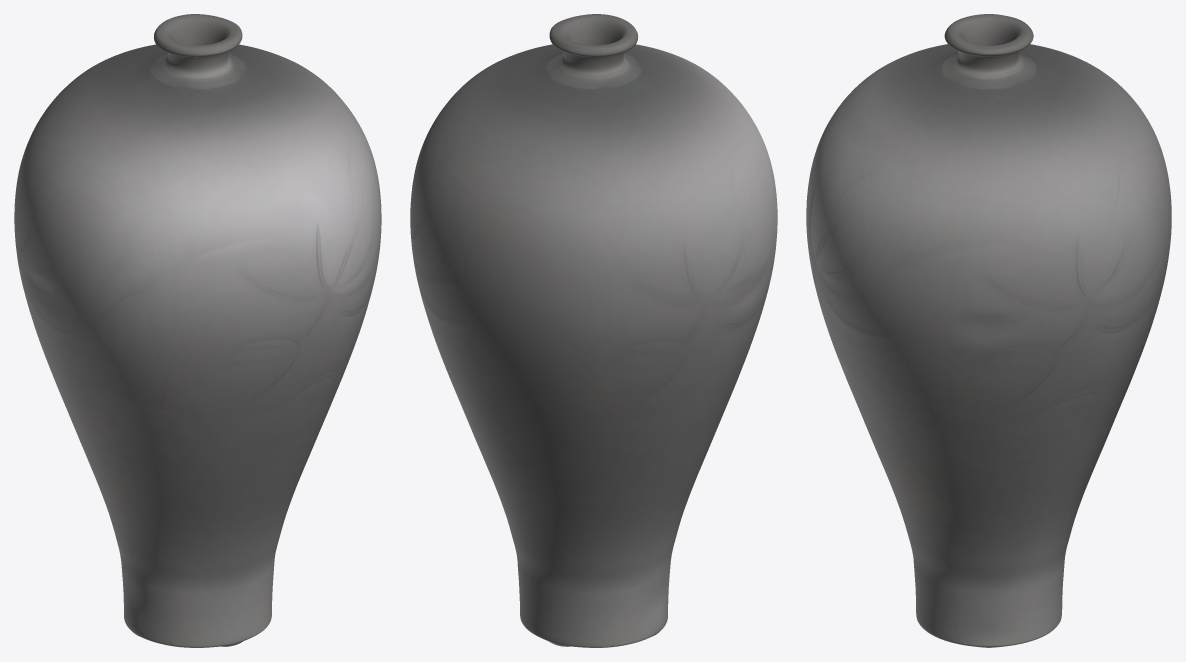
The model's file is dingyao.glb.
3 renders of one model, left to right at view 1: azimuth 30°, elevation 25°; view 2: azimuth 150°, elevation 25°; view 3: azimuth 270°, elevation 25°, orthographic.
Size of the model in its own units: 0.6626 by 1.17 by 0.66.
Materials: 1 (1 with a texture image).
